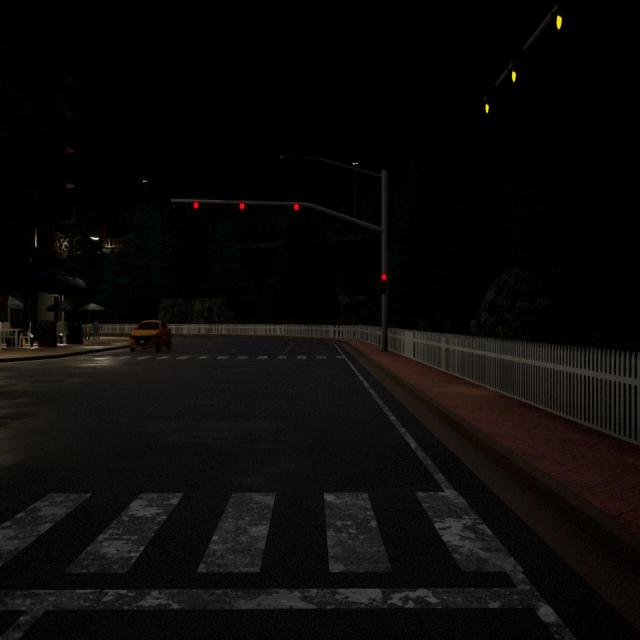Vehicle: (128, 319, 172, 355)
traffic_light: (556, 3, 567, 36), (511, 58, 522, 91), (485, 89, 494, 119), (380, 273, 387, 294), (239, 202, 245, 211), (193, 201, 199, 209), (294, 203, 300, 211)
